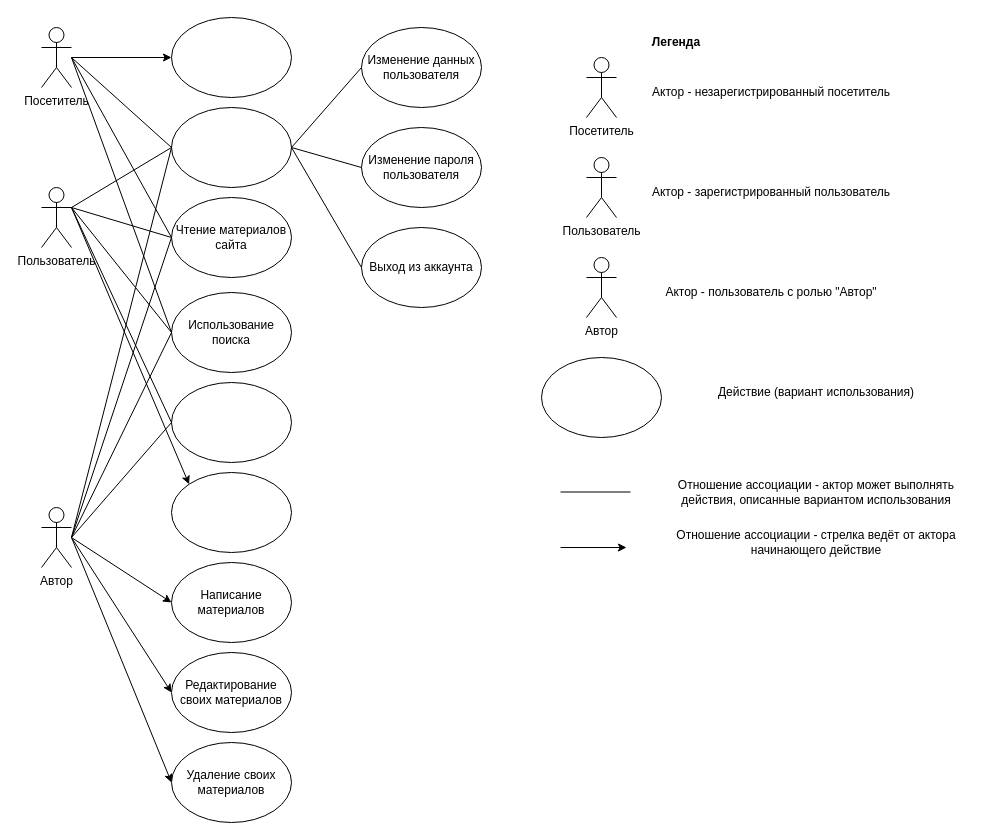
Some shapes in this 983 by 840 pixel diagram are drawn without their labels. The shapes that lost their labels are listed below. From the top down, each one's centre as x and y in pixels, then its label:
(231,57): Саморегистрация логин и пароль
(231,147): Логин на сайте
(601,397): UseCase
(231,422): Скачивание файлов к материалу
(231,512): Связь с администратором для добавления в группу "Автор"
